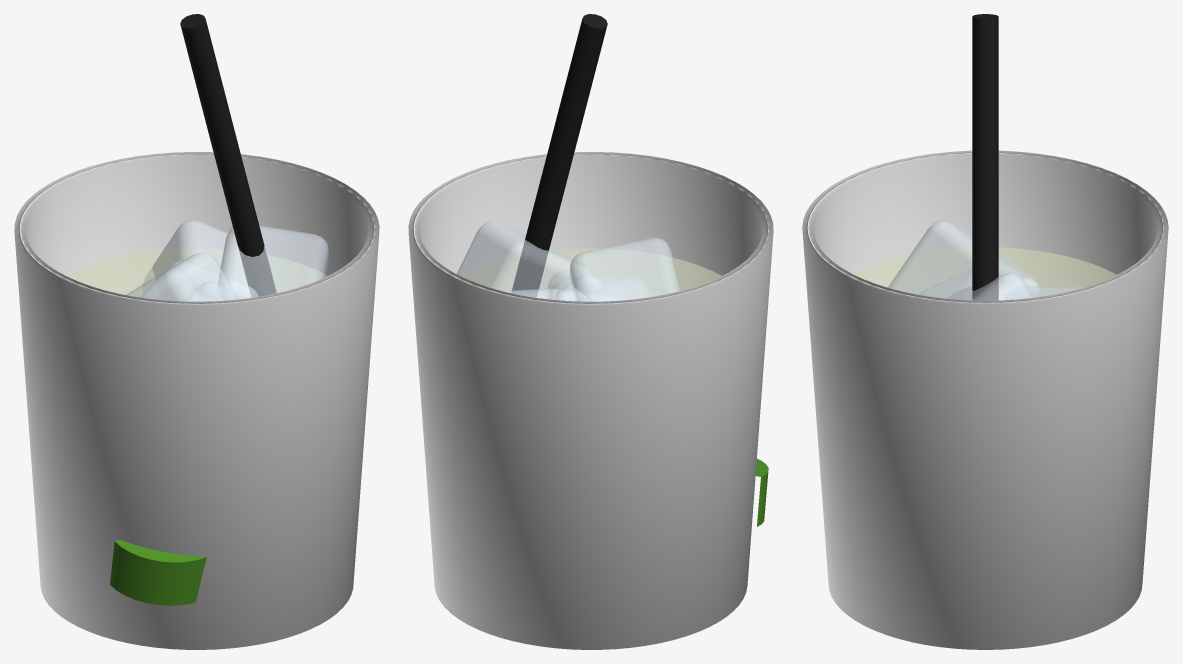
The model's file is caipirinha.glb.
3 views of the same model, side by side, from view 1: azimuth 30°, elevation 25°; view 2: azimuth 150°, elevation 25°; view 3: azimuth 270°, elevation 25° (orthographic).
Size of the model in its own units: 0.084 by 0.1437 by 0.084.
